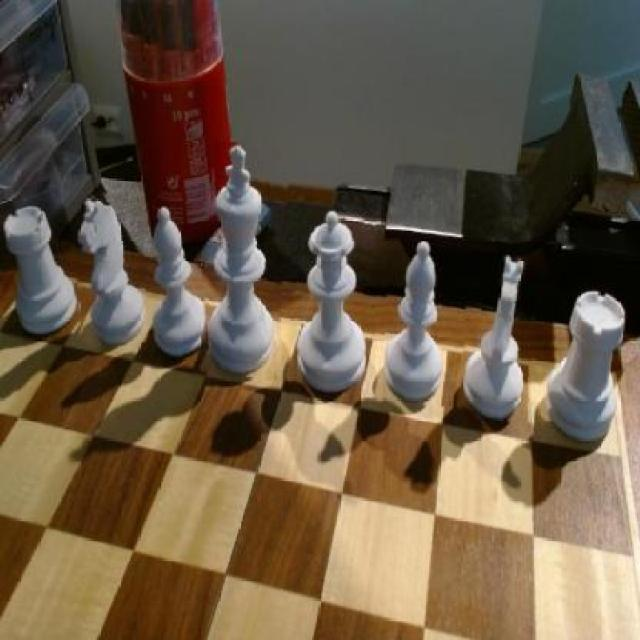black-rook: (384, 240, 454, 407), (152, 203, 213, 369)
white-bishop: (204, 142, 288, 379)
white-king: (463, 252, 536, 422), (75, 191, 148, 347)
white-pawn: (294, 209, 375, 398)
white-queen: (544, 289, 632, 456), (5, 197, 83, 345)
